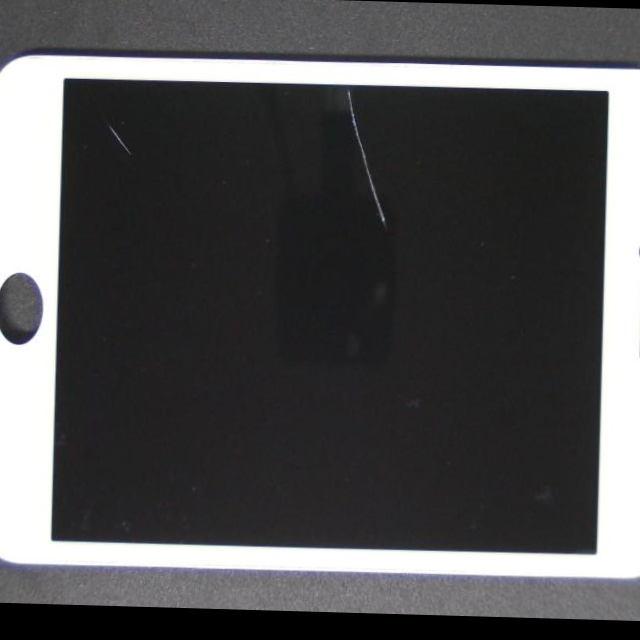scratch: (156, 149, 608, 364), (31, 7, 178, 184)
